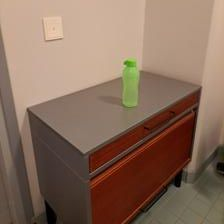bottle: (119, 56, 142, 107)
